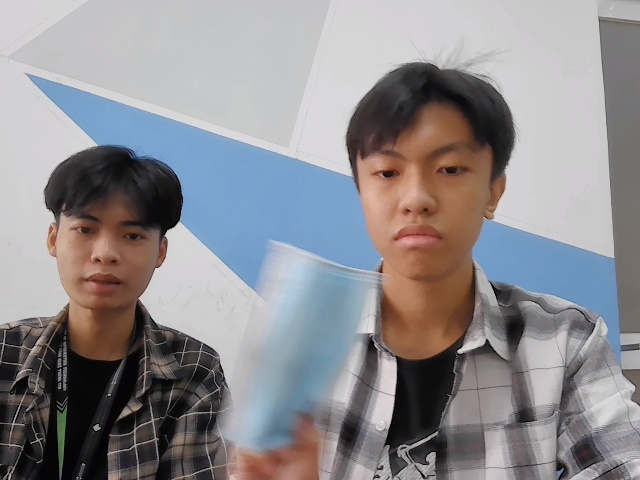human: (345, 63, 512, 280), (38, 134, 190, 311)
mask: (227, 235, 380, 455)
